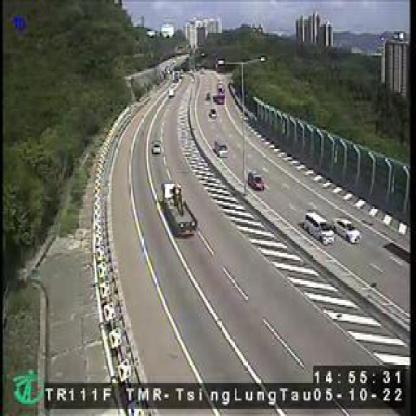Car: (304, 210, 333, 244), (333, 218, 361, 243), (246, 172, 262, 190), (212, 139, 227, 158), (150, 139, 161, 154), (206, 107, 216, 118)
Truck: (162, 180, 197, 236)
